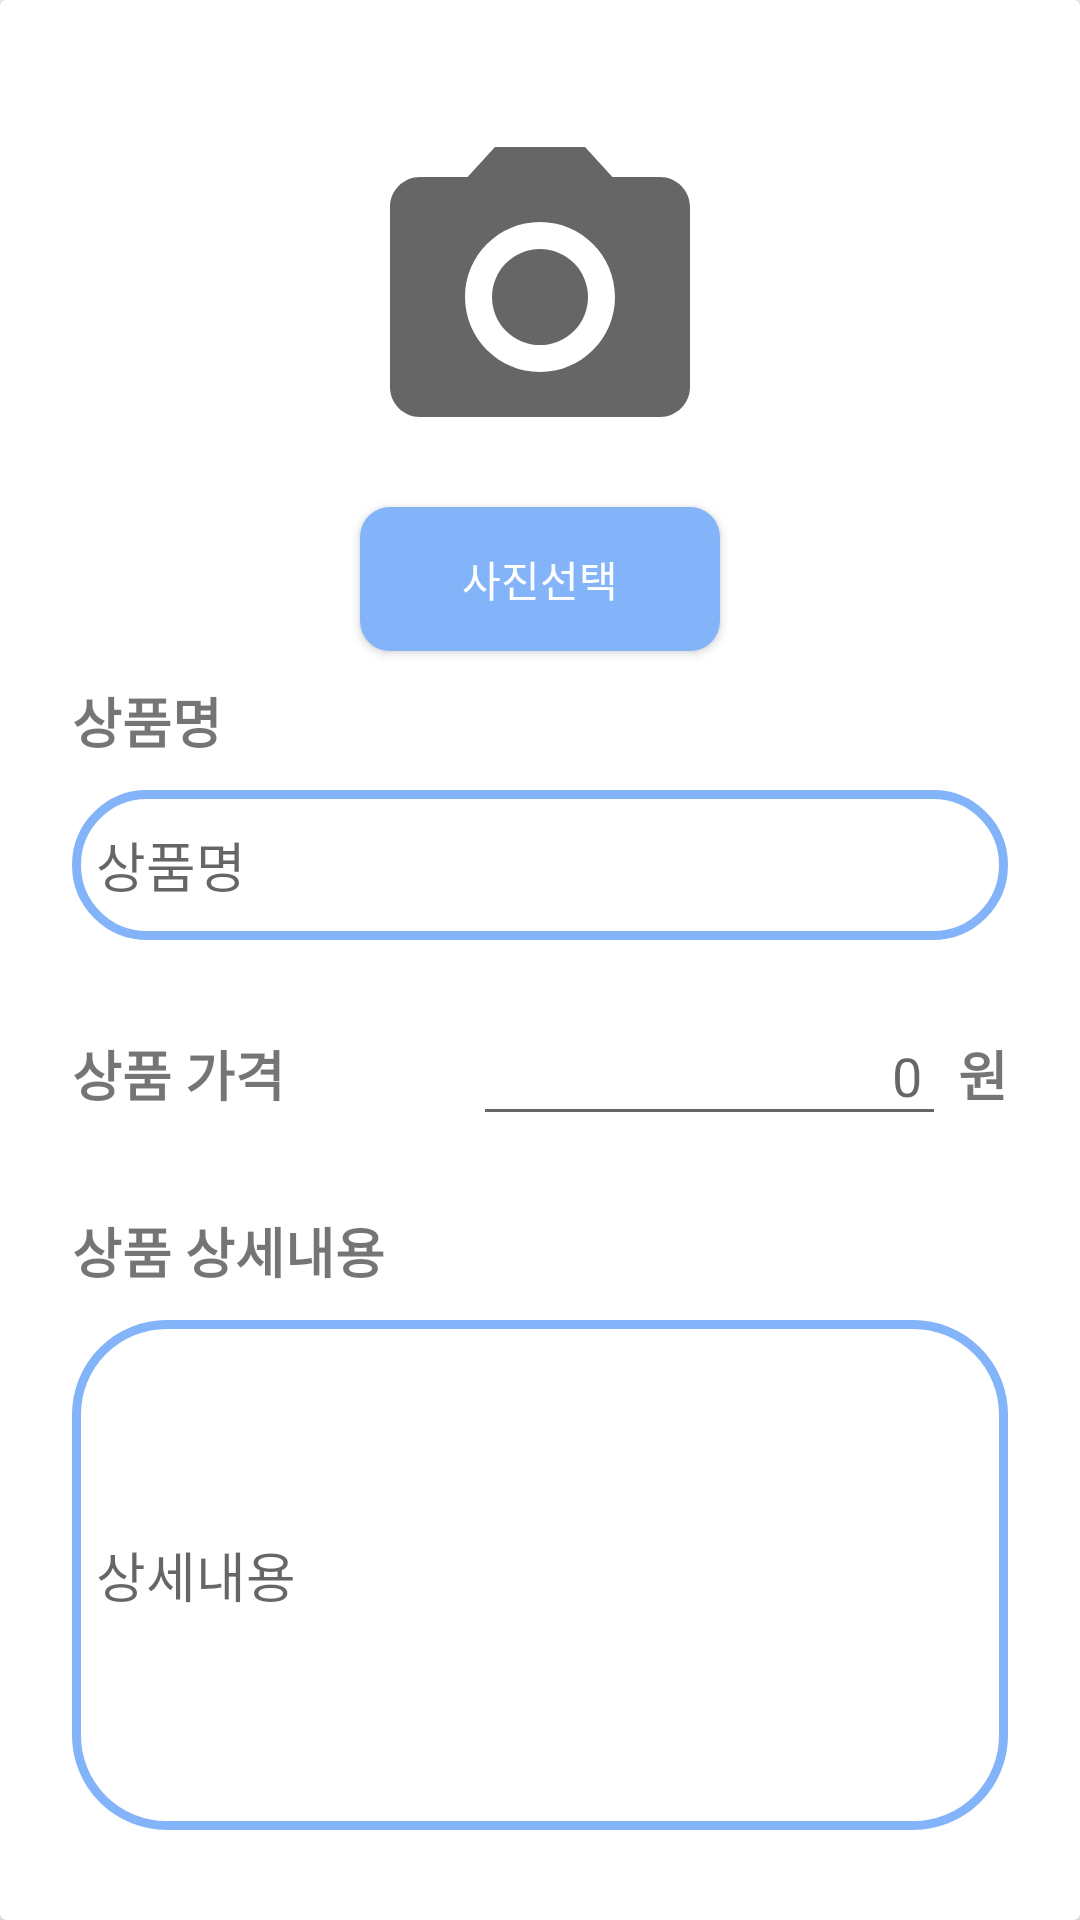

Point at icon controls on the screen. Image size 1080*1920, points as (x,y).
camera: (540,282)
